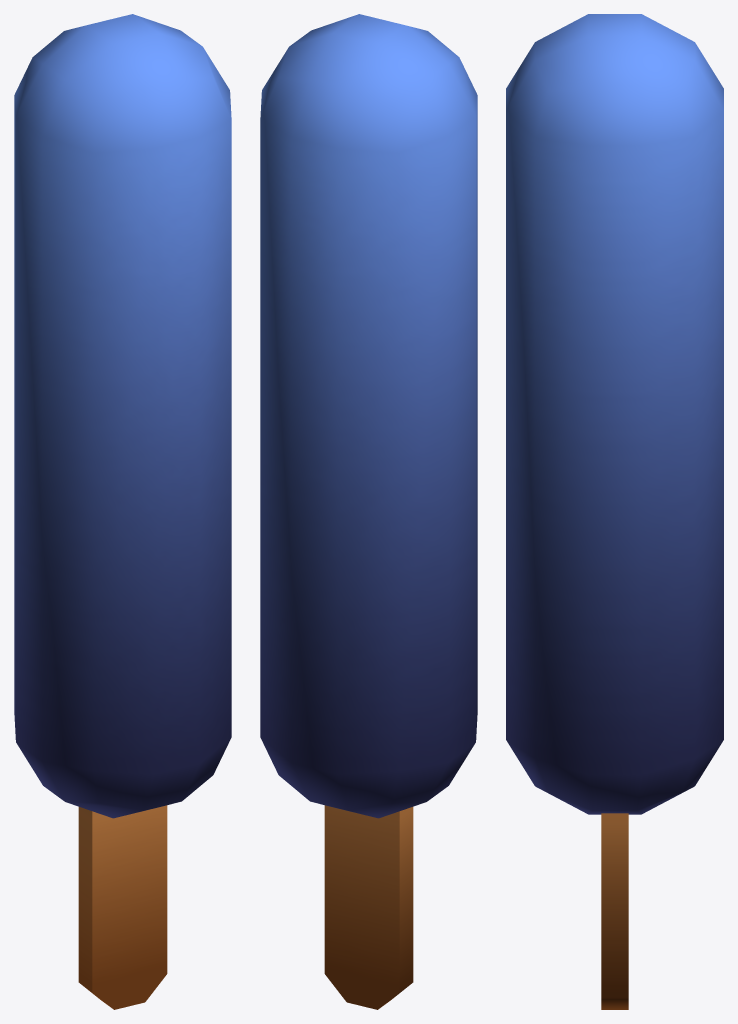
File: m_PopsicleStick06.fbx
3 renders of one model, left to right at view 1: azimuth 30°, elevation 25°; view 2: azimuth 150°, elevation 25°; view 3: azimuth 270°, elevation 25°, orthographic.
Visible parts, largest first — view 1: m_PopsicleStick06; view 2: m_PopsicleStick06; view 3: m_PopsicleStick06.
Part boxes in pixels (x1=…): m_PopsicleStick06: x1=14, y1=14, x2=231, y2=1009; m_PopsicleStick06: x1=260, y1=14, x2=477, y2=1009; m_PopsicleStick06: x1=506, y1=14, x2=723, y2=1009.
Size of the model in its own units: 4.64 by 22.99 by 4.64.
